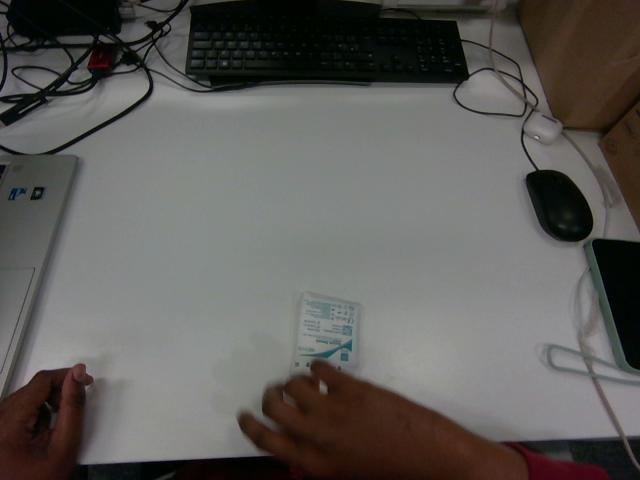gauze: (292, 293, 361, 372)
